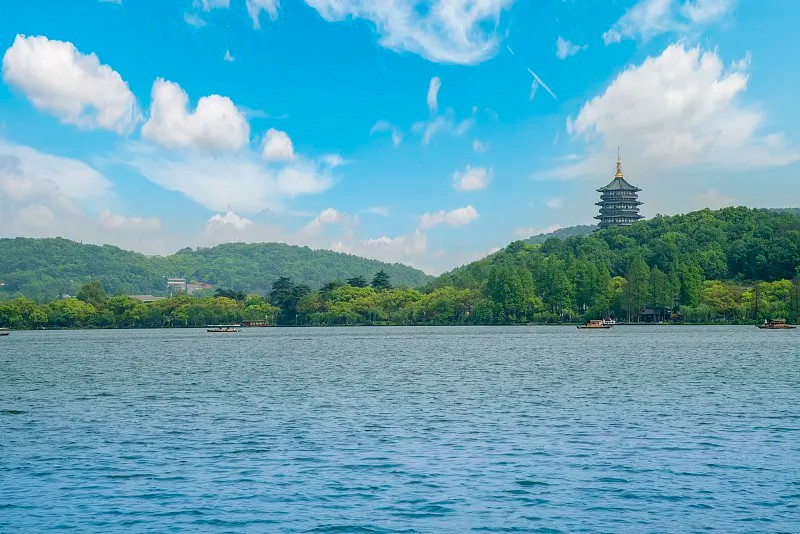Leifeng: (594, 143, 646, 230)
